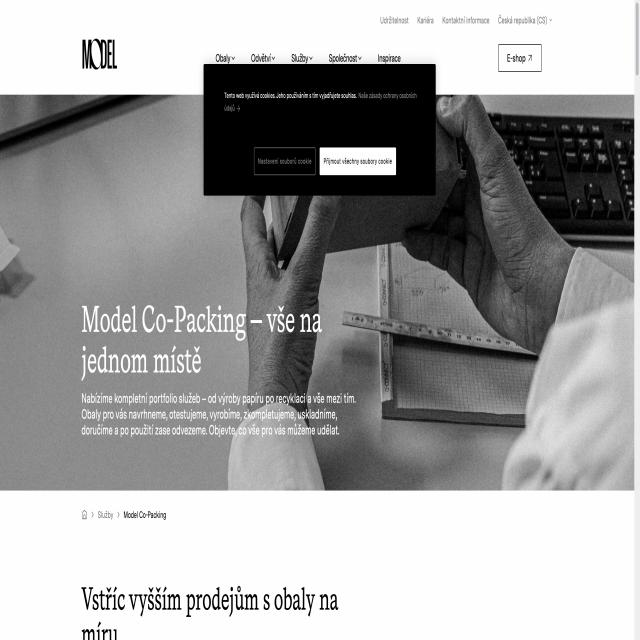Logo: (78, 24, 126, 81)
Navigation: (204, 33, 415, 66)
